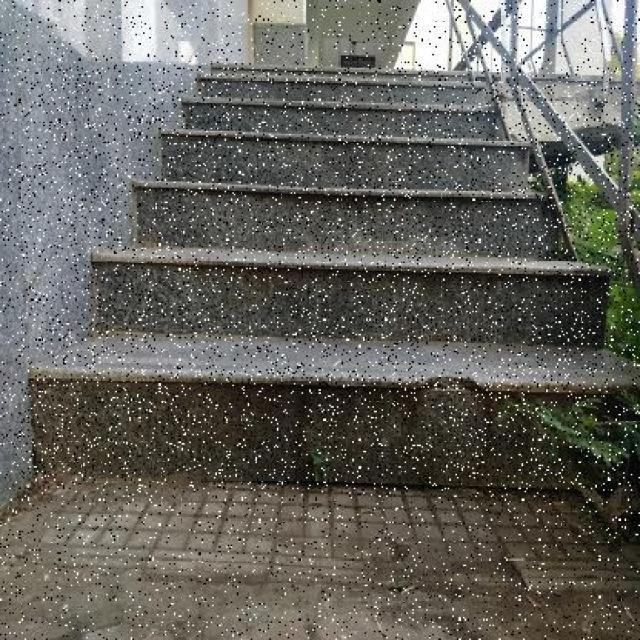Stairs: (24, 28, 639, 522)
